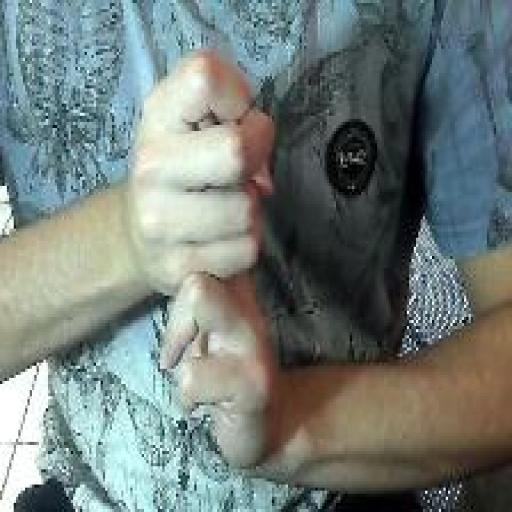Ne -rat-: (127, 46, 282, 482)
